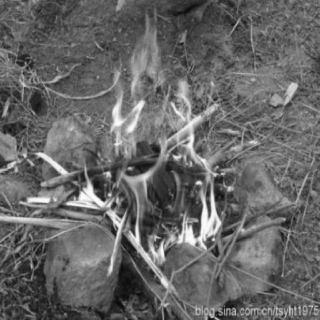Fire: (76, 6, 232, 274)
